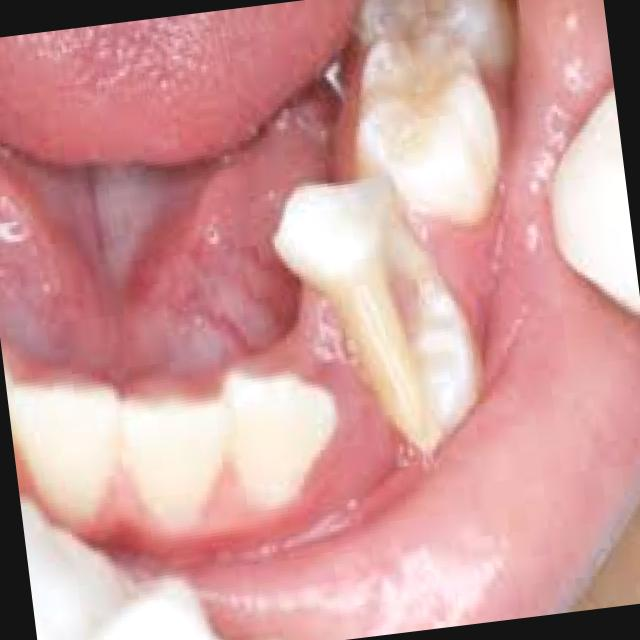caries: (302, 178, 516, 460)
